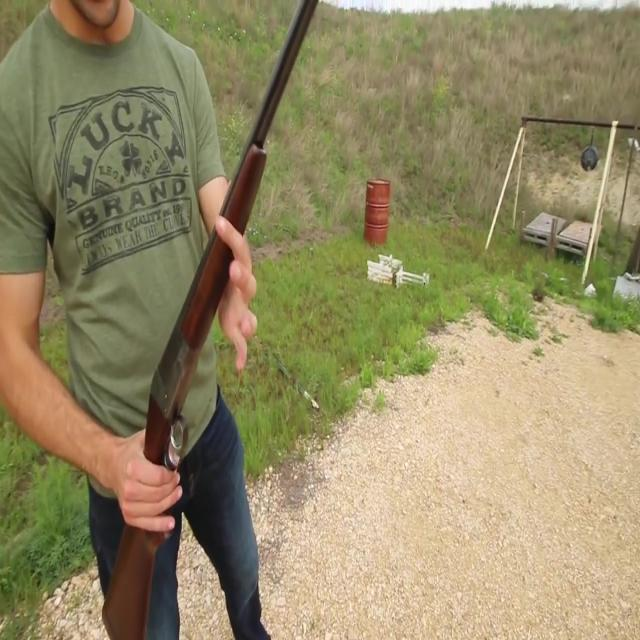Weapon: (113, 0, 313, 640)
